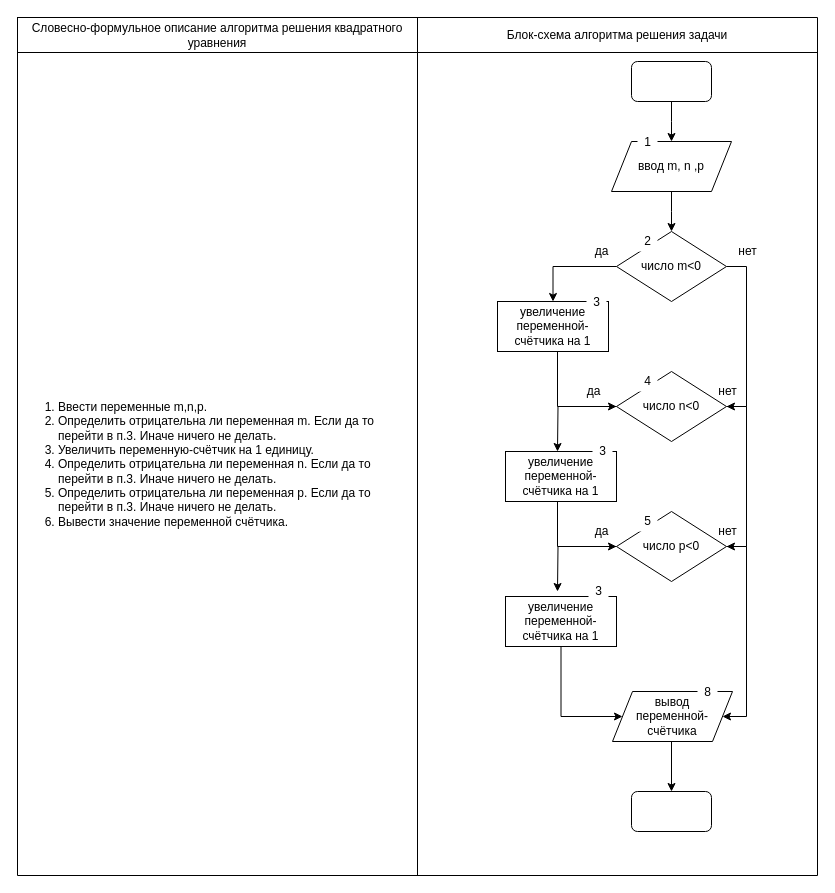
This 835x893 diagram has some shape labels left out. Each missing label, with the centre of its shape:
конец: the point at 671,811
начало: the point at 671,81
